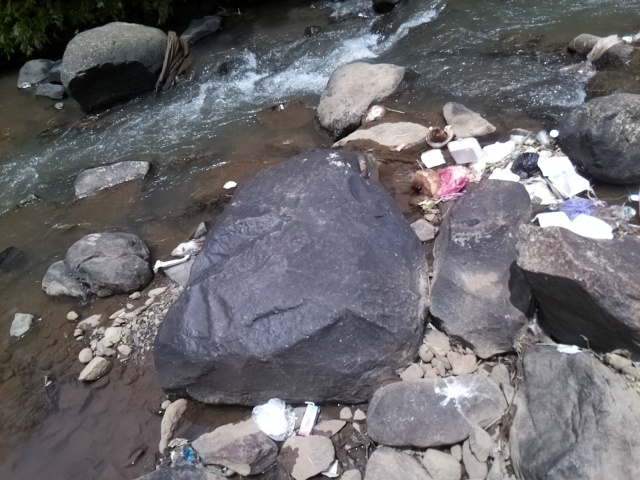Sampah_Plastik: (252, 396, 298, 440), (436, 165, 473, 200), (511, 152, 544, 178), (559, 195, 595, 218)
Sampah_Styrofoam: (536, 211, 620, 241), (538, 154, 596, 193), (446, 136, 485, 162), (486, 139, 516, 162), (419, 148, 446, 168)
